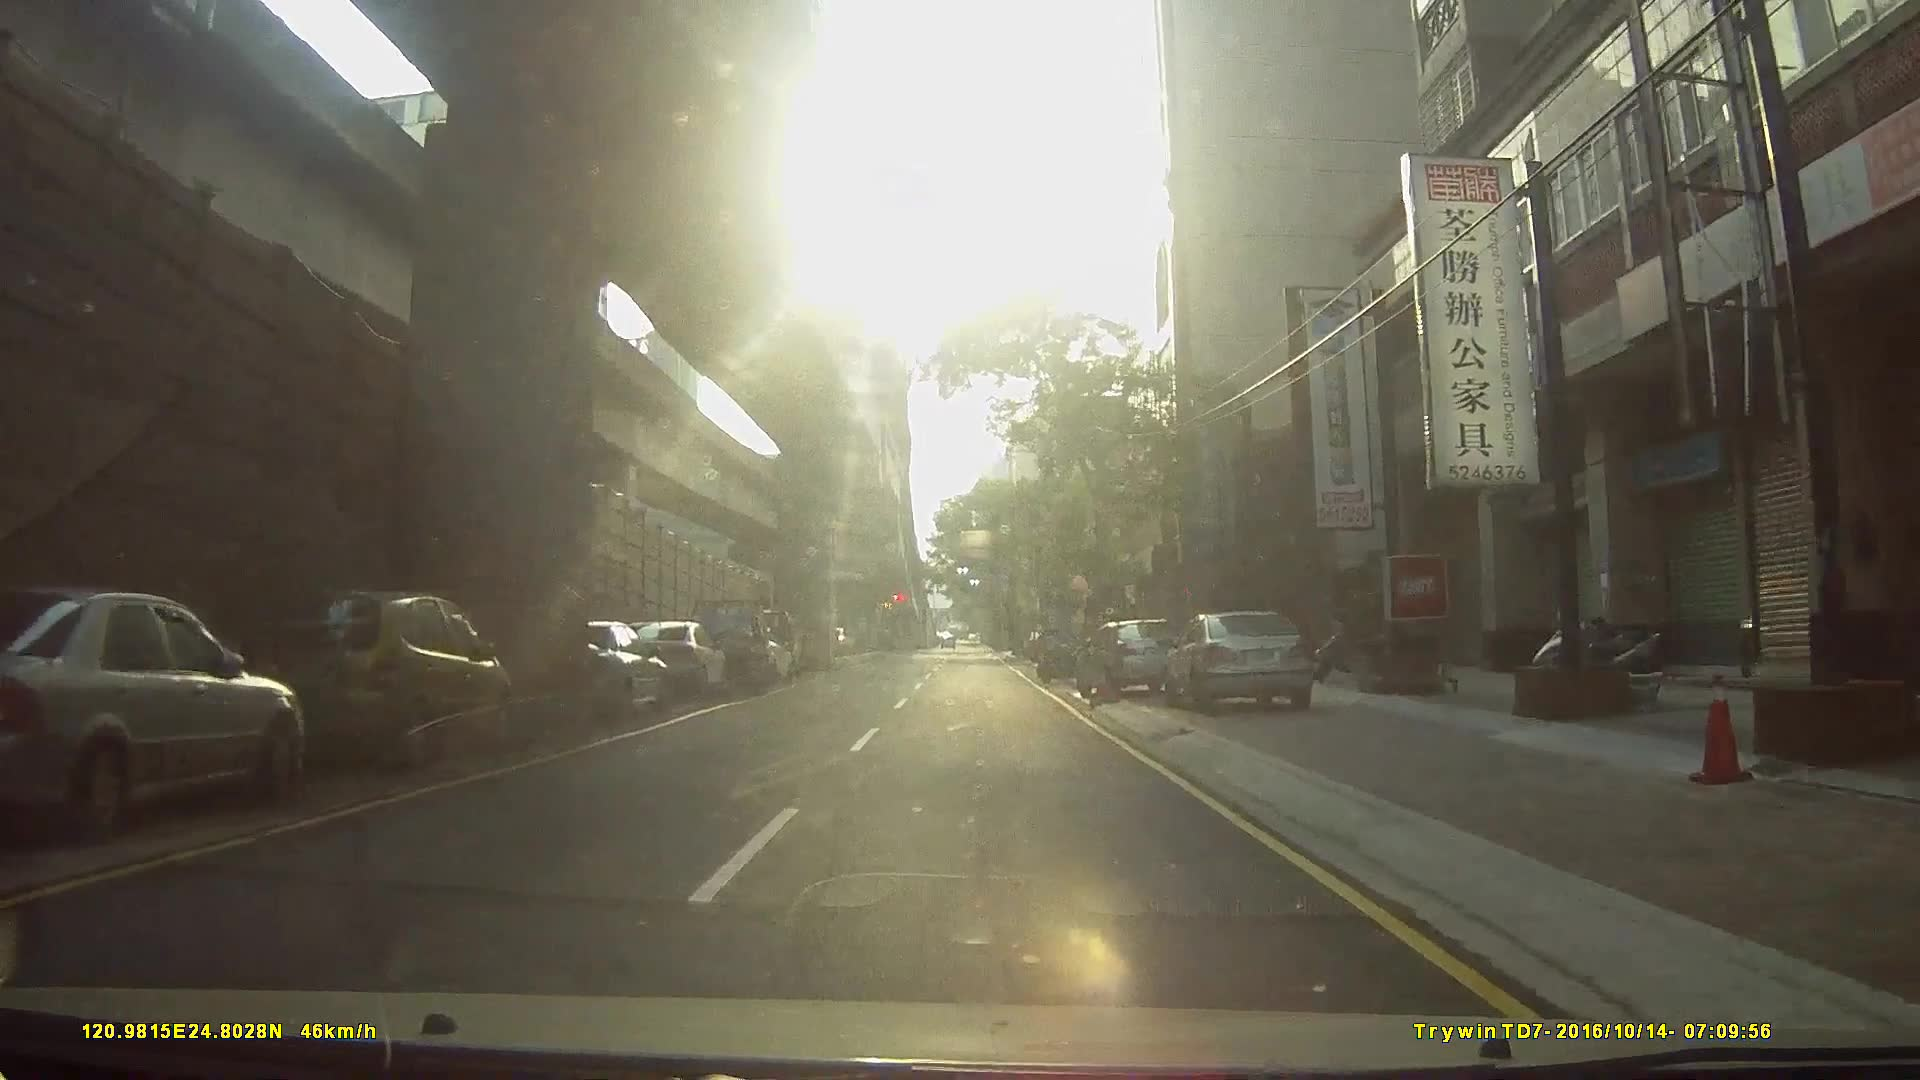rider: (1036, 626, 1084, 683)
vehicle: (1, 586, 313, 837), (212, 584, 509, 779), (1161, 608, 1321, 717), (533, 617, 668, 730), (677, 596, 772, 694), (617, 619, 729, 699), (1076, 616, 1186, 698)
